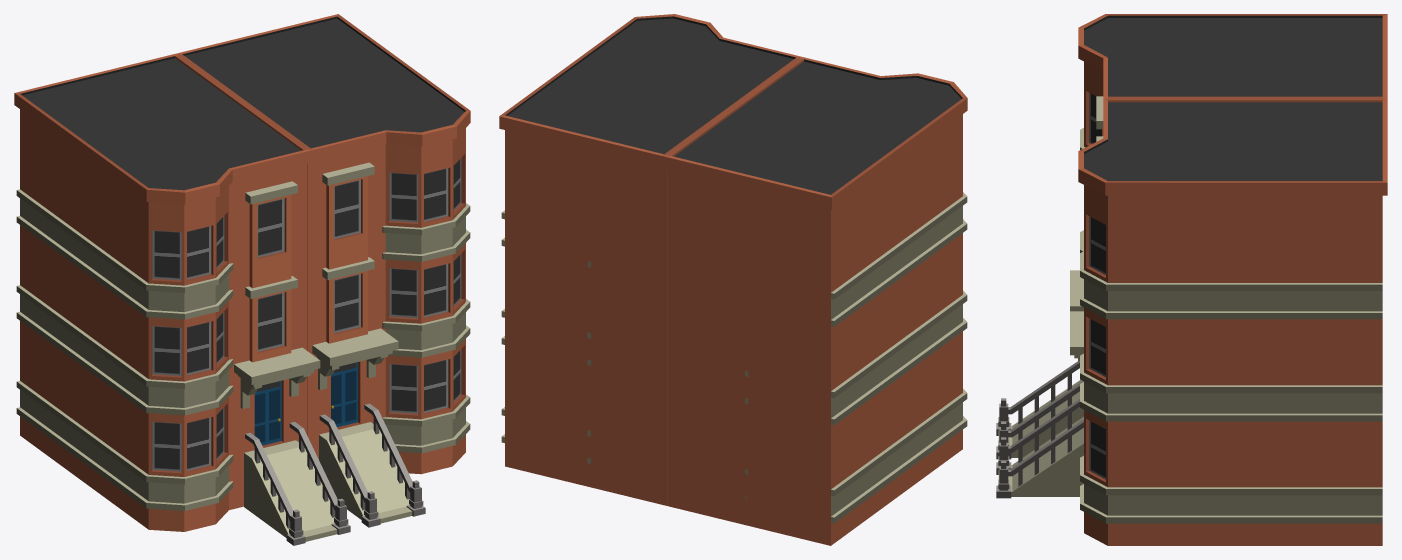
File: SA_Bld_TownHouseLarge_Clean_01.gltf
3 renders of one model, left to right at view 1: azimuth 30°, elevation 25°; view 2: azimuth 150°, elevation 25°; view 3: azimuth 270°, elevation 25°, orthographic. The views are drawn at different scales.
Parts seen in each view (by area): view 1: SA_Bld_TownHouseLarge_Clean_01; view 2: SA_Bld_TownHouseLarge_Clean_01; view 3: SA_Bld_TownHouseLarge_Clean_01.
Boxes of the visible parts, x1,y1,x2,y2 form: SA_Bld_TownHouseLarge_Clean_01: (14,14,470,545); SA_Bld_TownHouseLarge_Clean_01: (499,14,967,545); SA_Bld_TownHouseLarge_Clean_01: (996,14,1387,545).
Size of the model in its own units: 23.24 by 23.46 by 22.76.
1 material, 1 textured.
